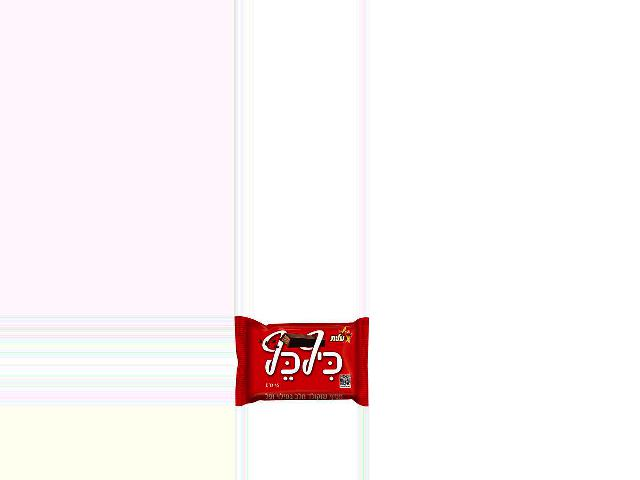chocolate: (235, 316, 368, 407)
